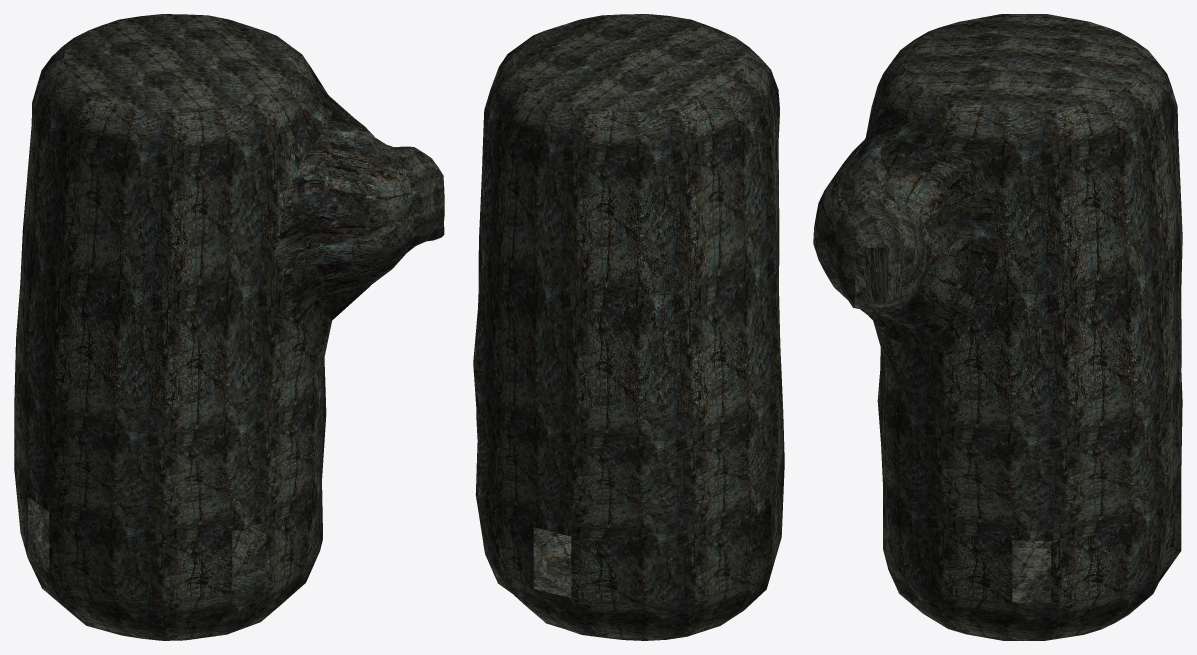
File: 02_05_staircase_room_cylinder.dae
3 renders of one model, left to right at view 1: azimuth 30°, elevation 25°; view 2: azimuth 150°, elevation 25°; view 3: azimuth 270°, elevation 25°, orthographic.
Parts seen in each view (by area): view 1: polySurface3; view 2: polySurface3; view 3: polySurface3.
Part boxes in pixels (bbox=[...]): polySurface3: bbox=[14, 14, 444, 640]; polySurface3: bbox=[473, 14, 784, 640]; polySurface3: bbox=[813, 14, 1182, 640].
Size of the model in its own units: 1728 by 2885 by 1715.
